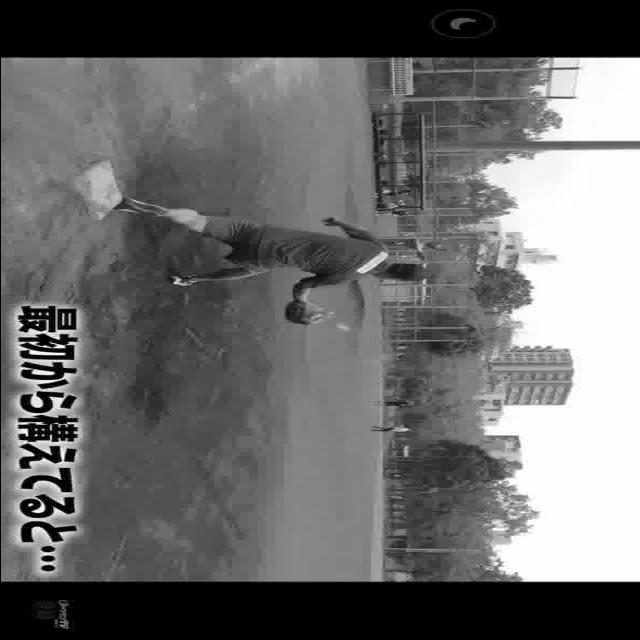base: (69, 162, 125, 220)
baseball: (329, 322, 348, 330)
baseball_glove: (285, 300, 327, 326)
shoe: (108, 202, 170, 218), (168, 272, 196, 288)
